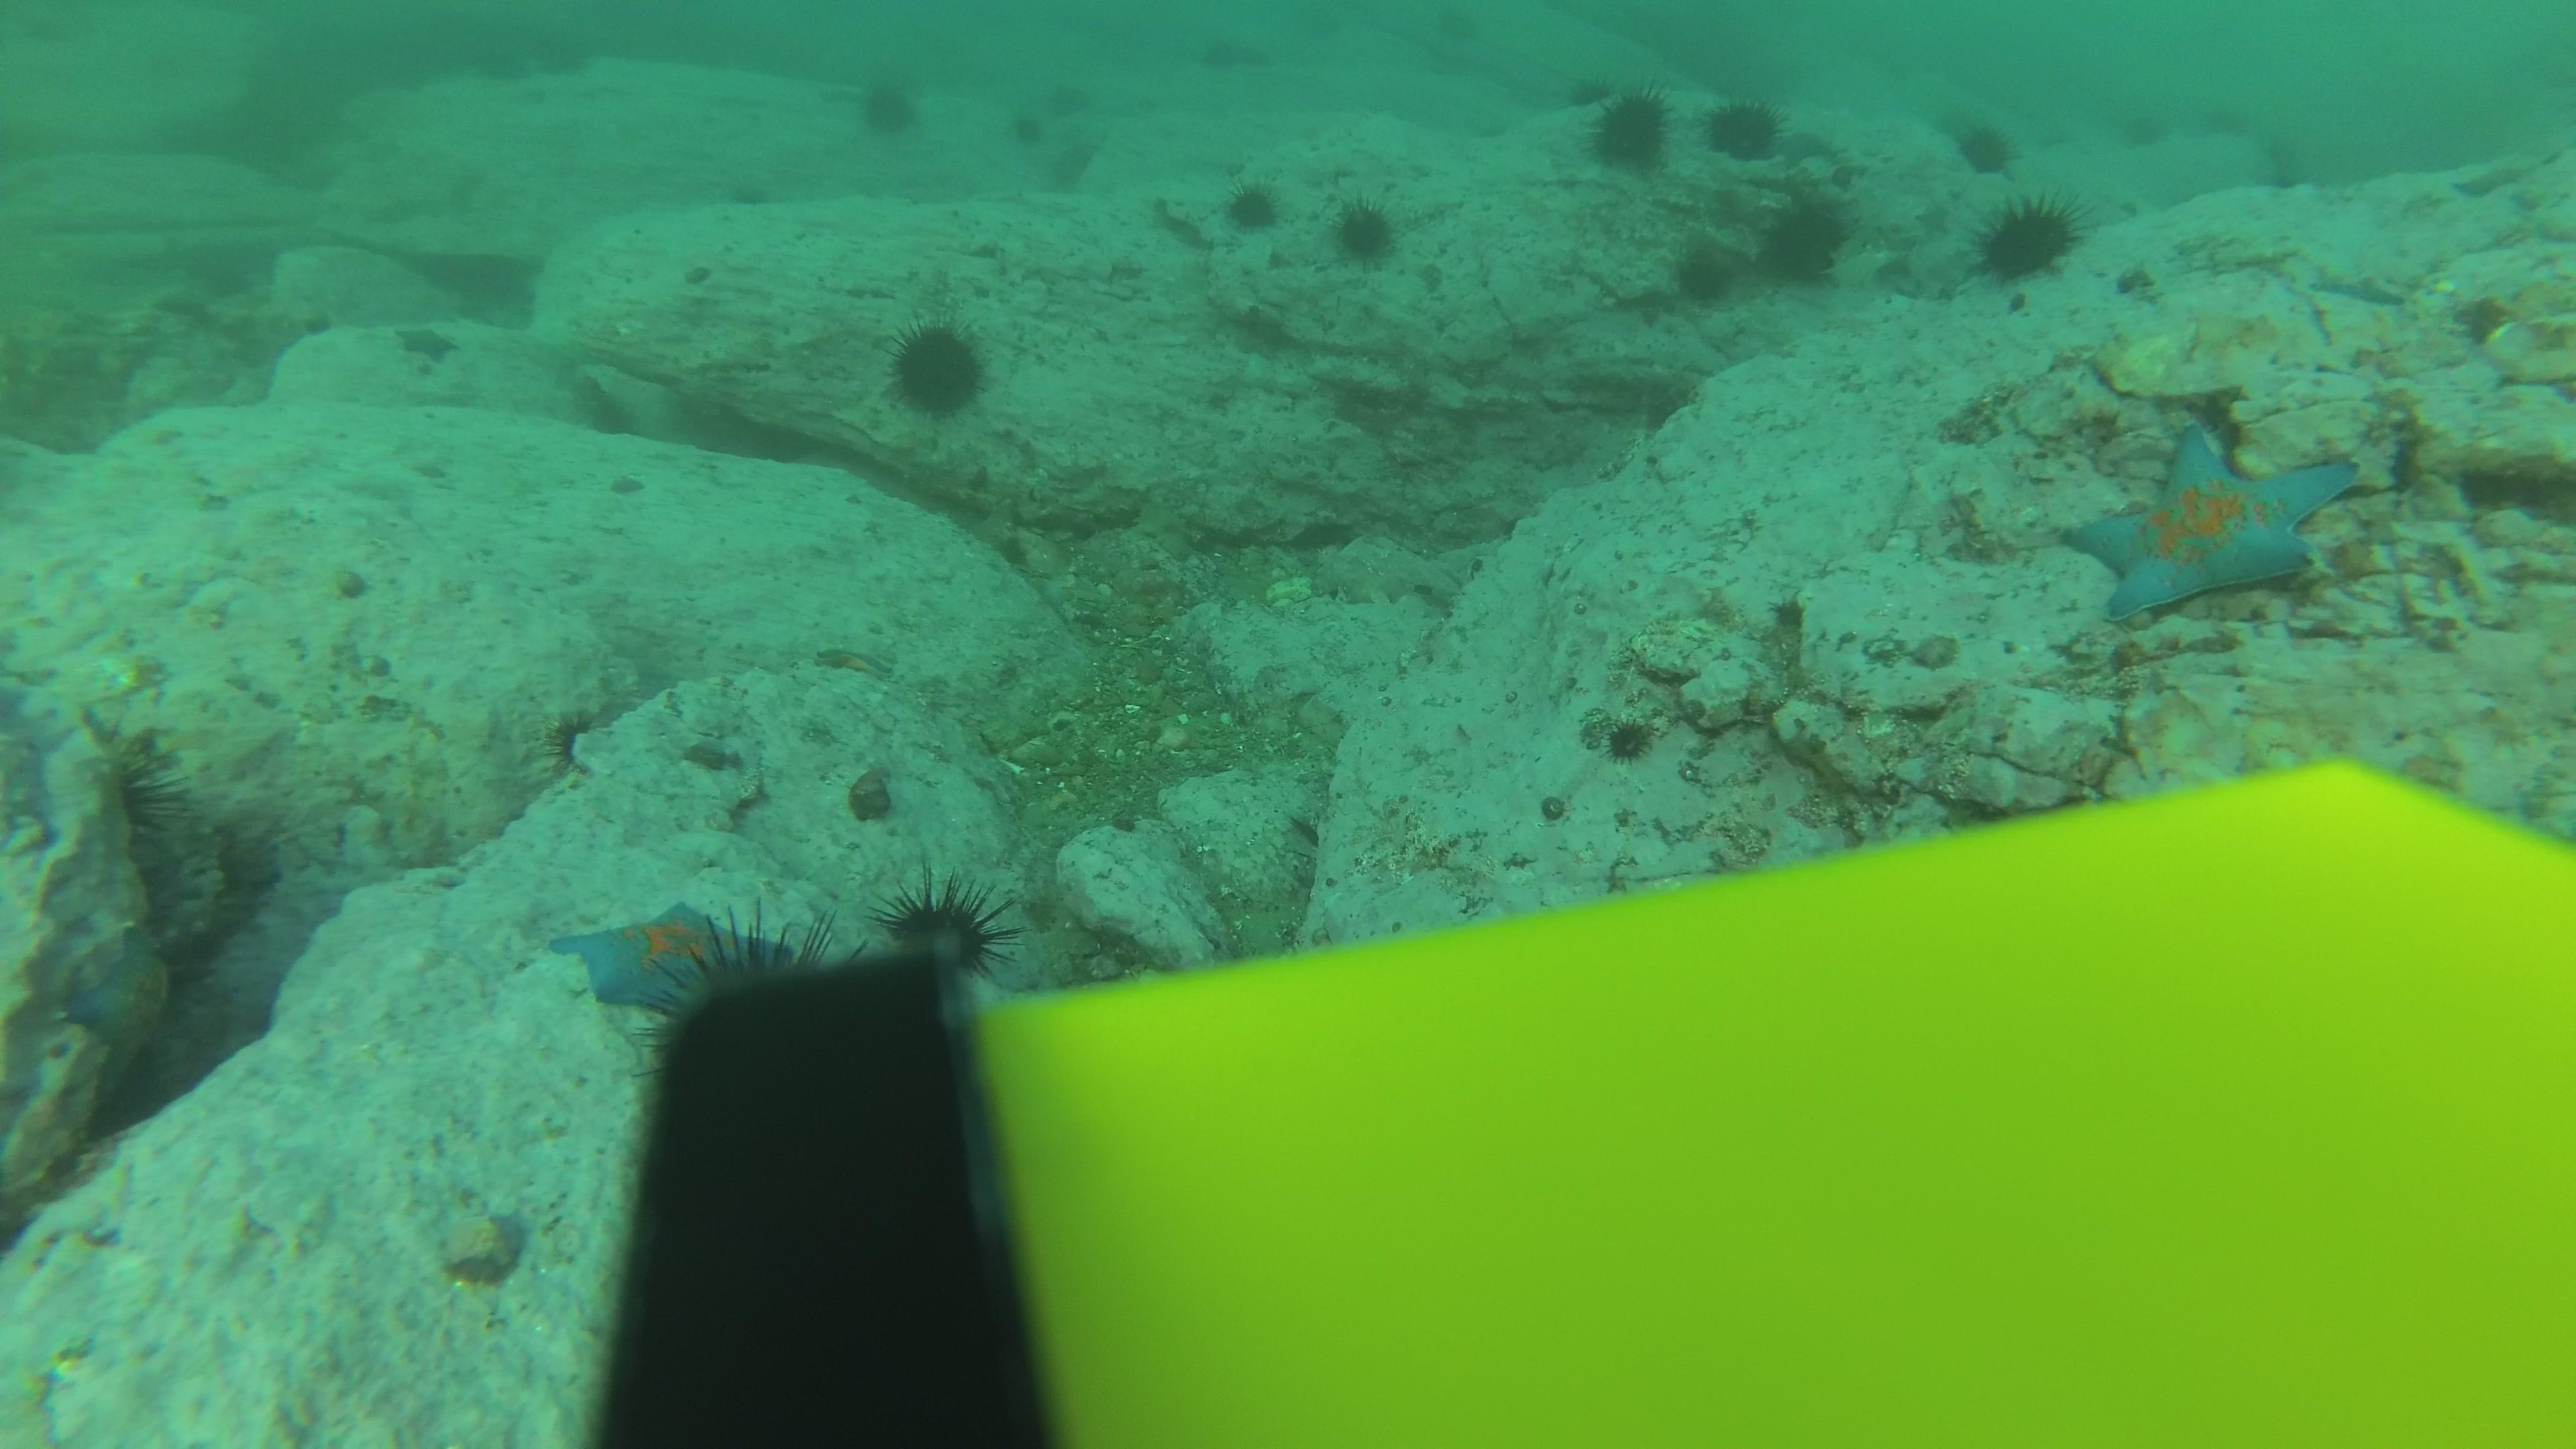echinus: (878, 874, 1010, 987), (883, 317, 993, 421), (1973, 191, 2082, 287), (1755, 191, 1852, 288), (1582, 83, 1674, 175), (1704, 92, 1785, 163), (1330, 195, 1401, 269), (474, 27, 547, 97), (853, 71, 924, 142), (531, 28, 602, 99), (1668, 241, 1736, 308), (1951, 113, 2017, 175), (2204, 83, 2270, 145), (2109, 99, 2173, 161), (1224, 175, 1283, 234), (1007, 103, 1054, 150), (1044, 78, 1092, 124), (1226, 28, 1274, 74), (1431, 2, 1479, 48), (1192, 28, 1238, 74)
starfish: (2056, 418, 2365, 625), (541, 897, 814, 1023), (58, 924, 180, 1070), (1875, 242, 1971, 306), (2304, 260, 2415, 310), (2449, 145, 2546, 202), (810, 632, 899, 681), (391, 318, 460, 368), (1773, 122, 1844, 168)
